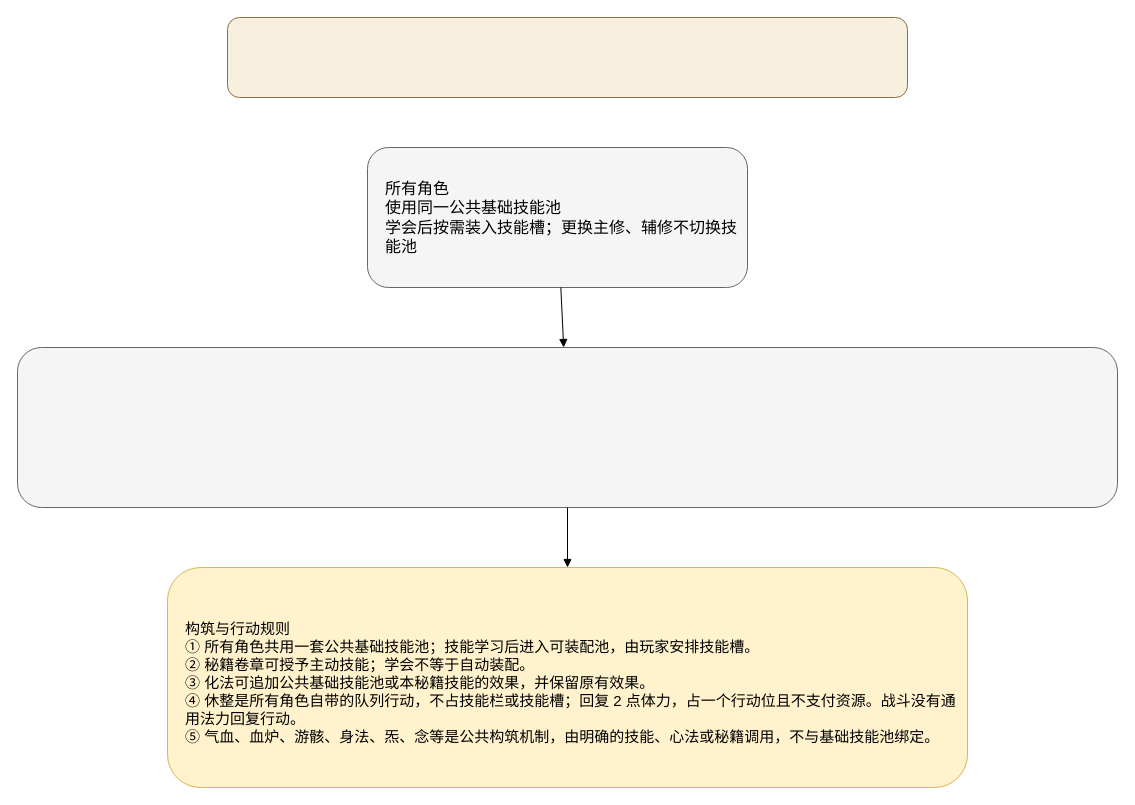
The diagram is 1135 pixels wide and 805 high, and some of its shapes have lost their labels. Here are the shapes that lost their labels. From the top down, the box of each, then its label:
(226, 16, 908, 98): 公共基础技能池总览 所有角色共用三项基础技能，不按路径分库
(16, 346, 1118, 508): 公共基础技能池 应敌、架招、痛击 出手方式：应敌（近身）、痛击（近身）
